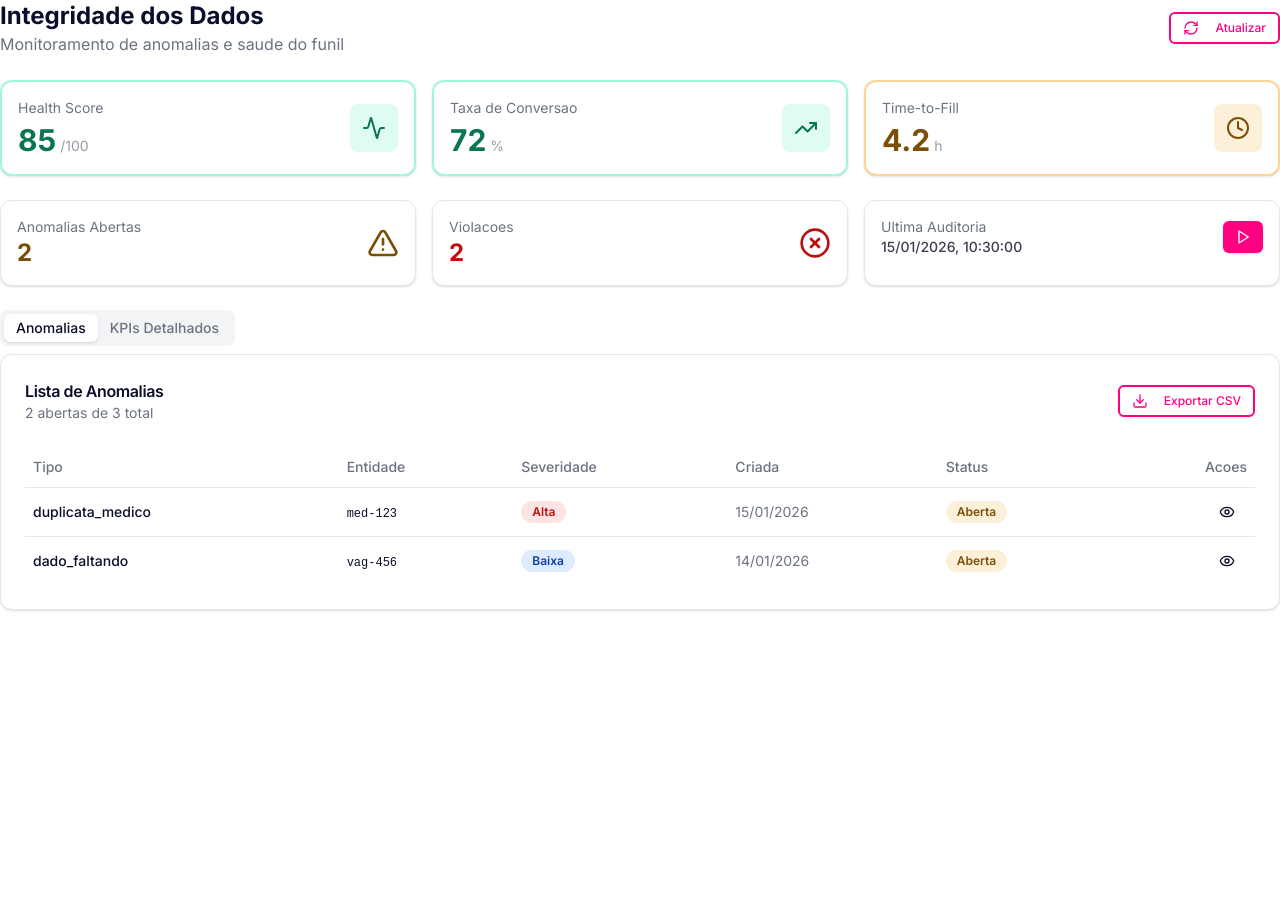
Scenario: IntegridadePageContent › Modal Integration › opens modal when view button clicked
The image size is (1280, 900).
Click the button with class "lucide-eye" at (1227, 512), box x1=1207 y1=496 x2=1247 y2=528
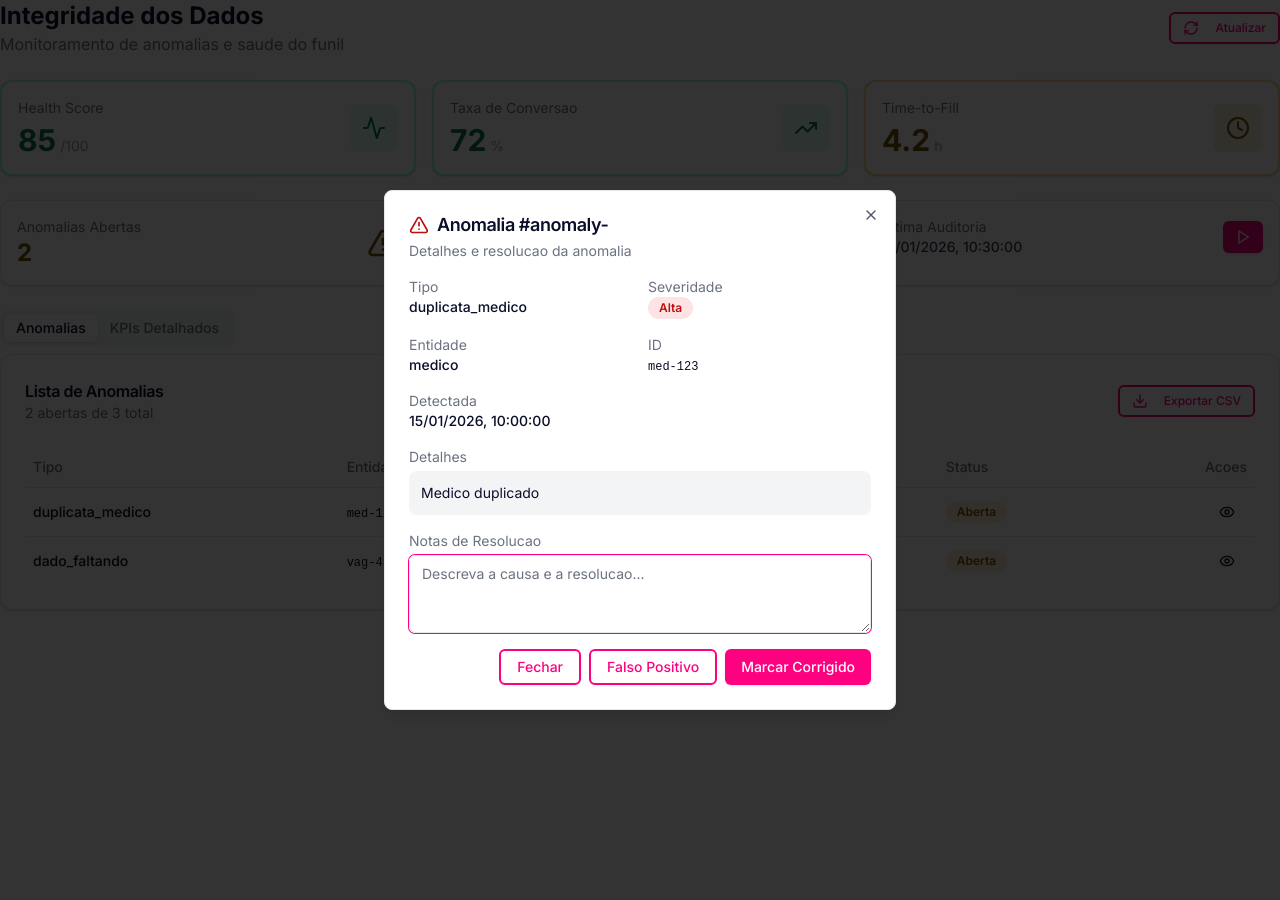
Result: the heading "Anomalia #anomaly-" is shown at x1=409 y1=214 x2=608 y2=235
